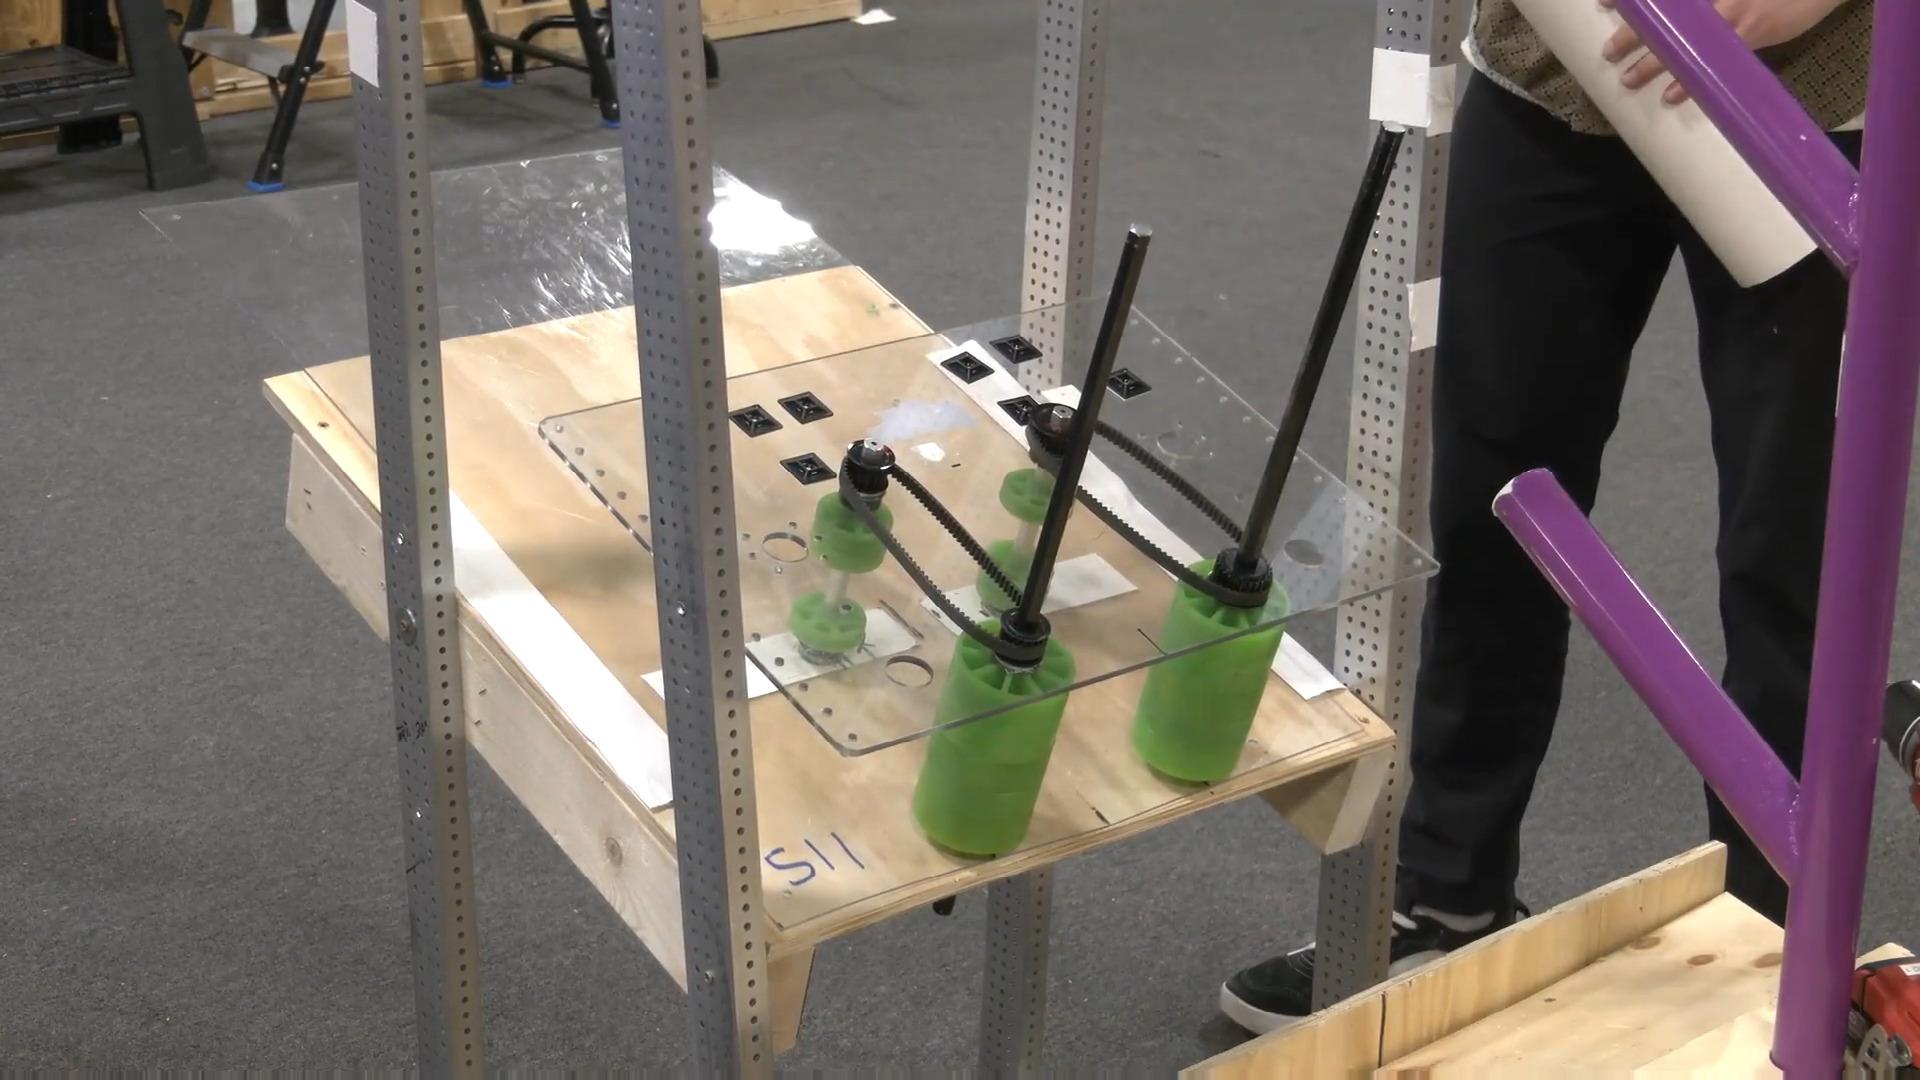coral: (1509, 0, 1865, 287)
